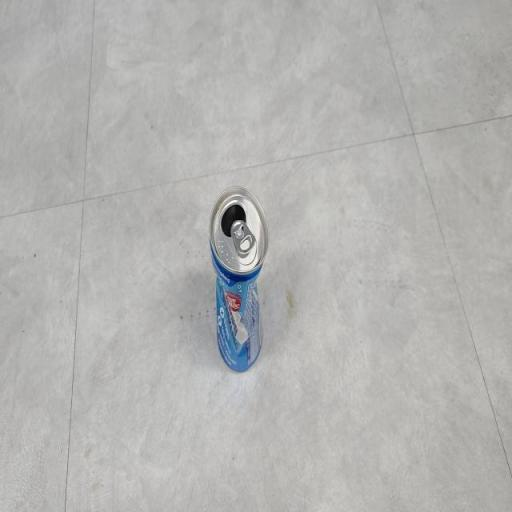metal: (197, 168, 281, 390)
